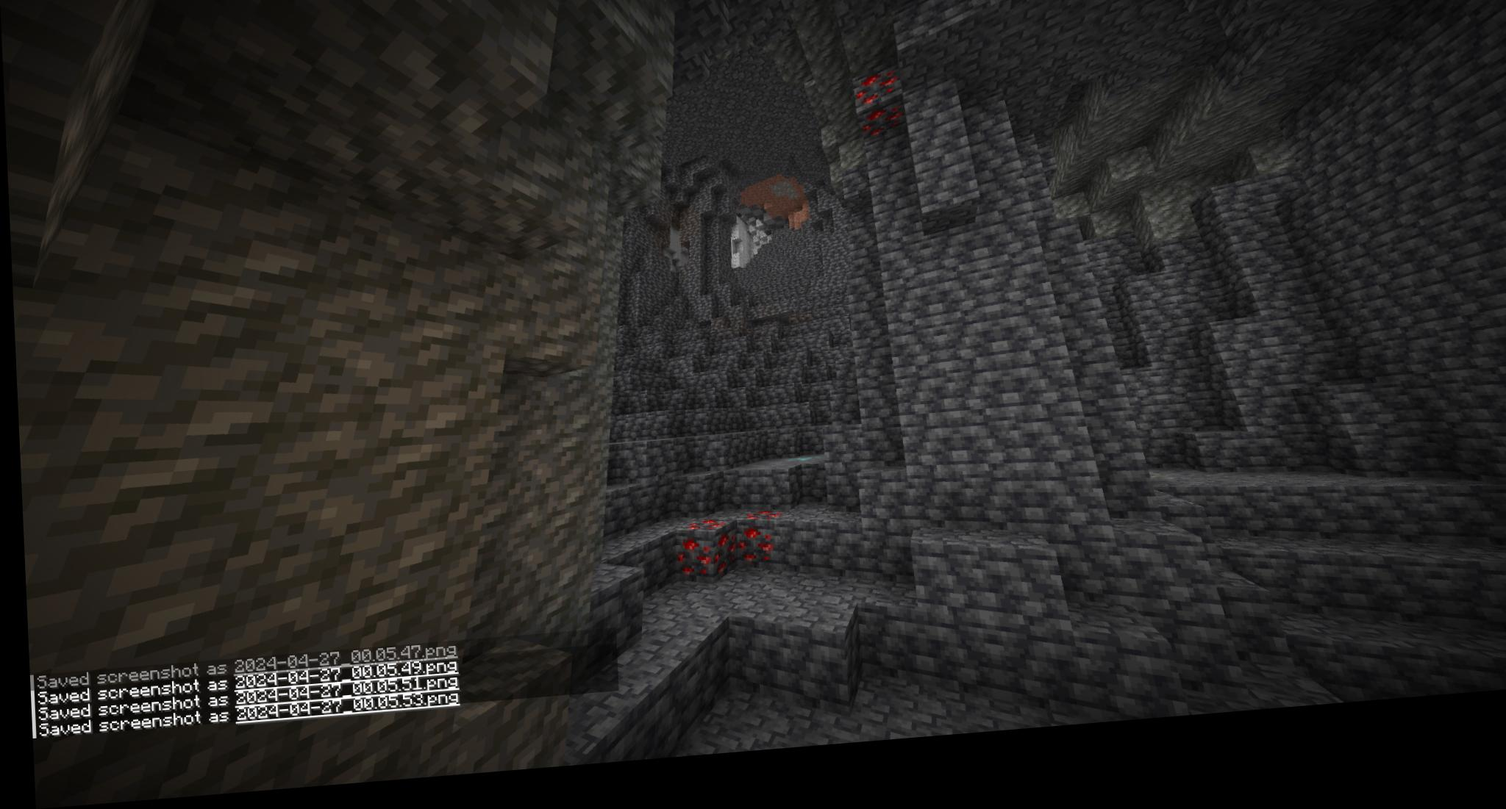redstone ore: (853, 81, 903, 154), (674, 529, 730, 591), (726, 521, 779, 574)
